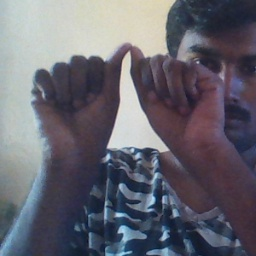A: (42, 37, 214, 141)
